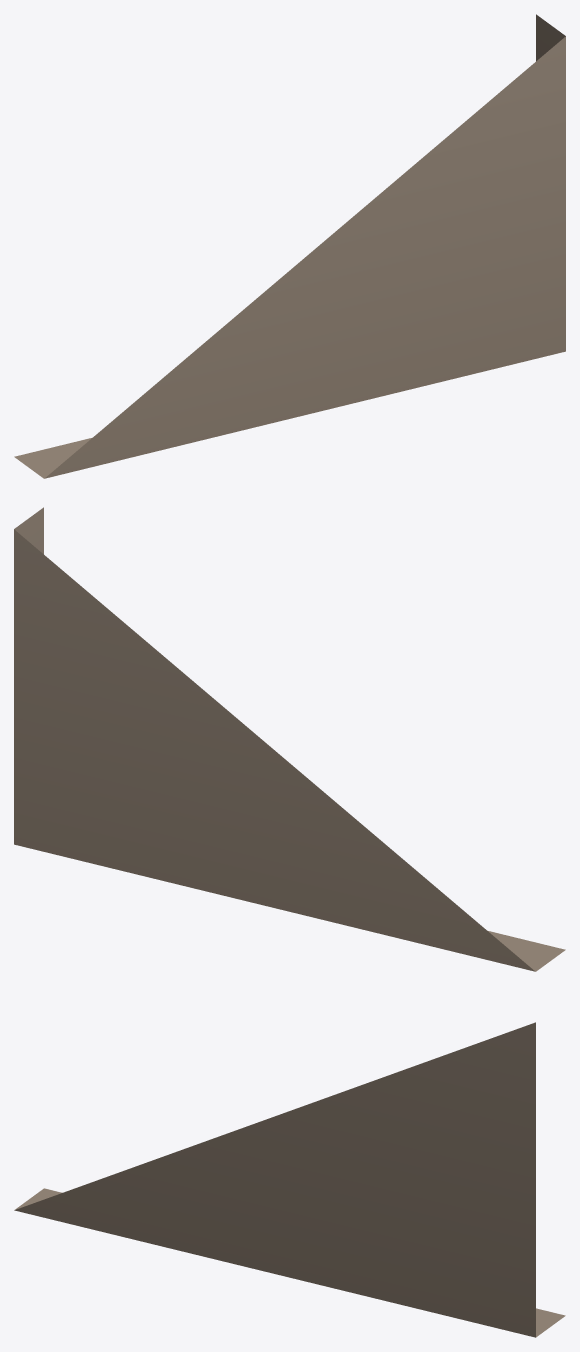
Rendered from gable_regocrete.glb.
3 renders of one model, top to bottom at view 1: azimuth 30°, elevation 25°; view 2: azimuth 150°, elevation 25°; view 3: azimuth 330°, elevation 25°, orthographic.
Parts seen in each view (by area): view 1: gable_regocrete; view 2: gable_regocrete; view 3: gable_regocrete.
Part boxes in pixels (x1,y1,x2,y2): gable_regocrete: [14, 14, 565, 478]; gable_regocrete: [14, 507, 565, 971]; gable_regocrete: [14, 1022, 565, 1337].
Bounding box in the file's own units: 2 × 1.15 × 0.2.
